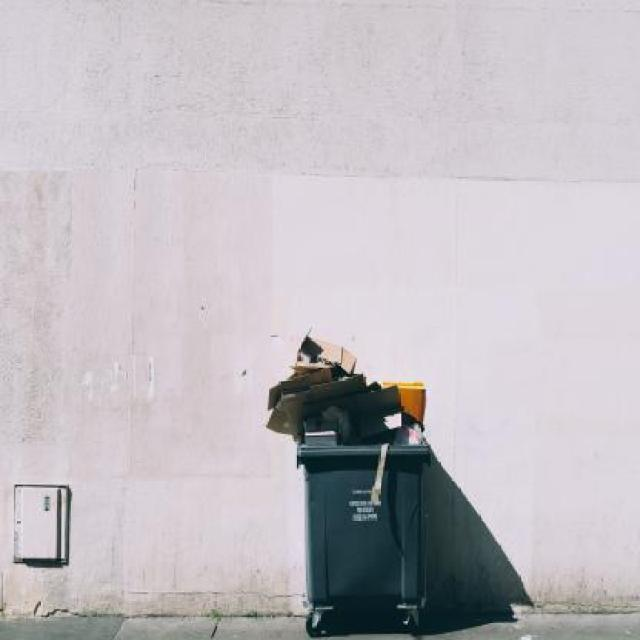garbage container: (286, 442, 441, 640)
